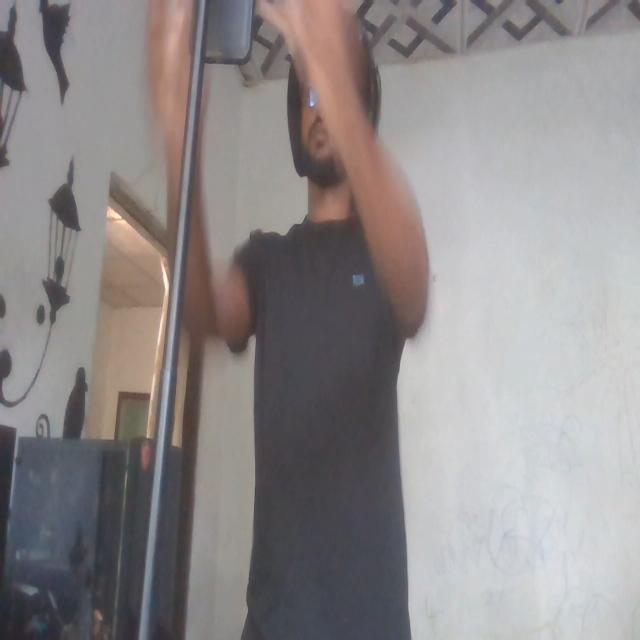Helmet_Wearer: (287, 4, 391, 238)
Person: (232, 0, 430, 640)
